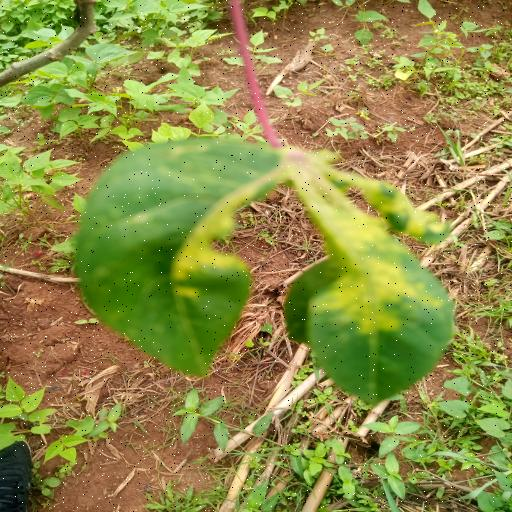Cassava_Mosaic: (68, 138, 466, 406)
